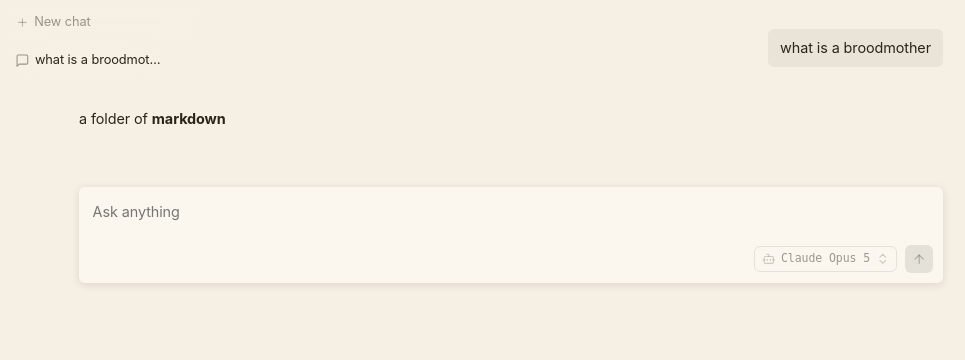
Scenario: picks a model from a menu grouped by provider
The image size is (965, 360).
Expected: the text box named "Message" is shown, x1=89 y1=197 x2=933 y2=239
Click the button with aria-label "Model" at [826, 259], box x1=754 y1=246 x2=897 y2=272
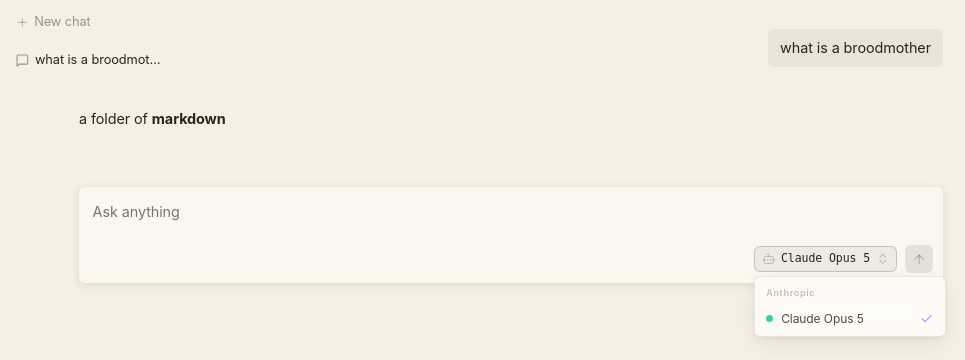
Result: the text "Anthropic" is shown at x1=766 y1=287 x2=815 y2=298
